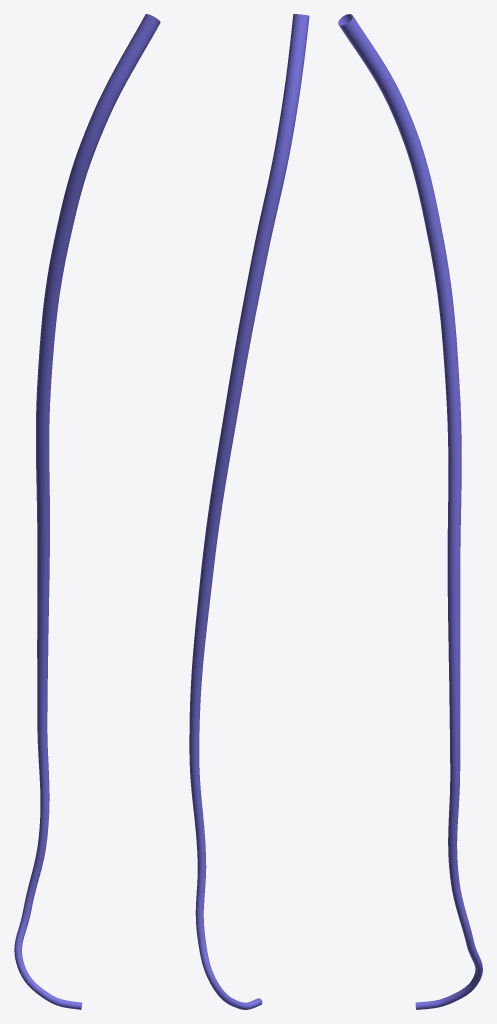
Rendered from Fibular_veins.r_BezierCurve.322.glb.
3 renders of one model, left to right at view 1: azimuth 90°, elevation 25°; view 2: azimuth 150°, elevation 25°; view 3: azimuth 270°, elevation 25°, orthographic. The views are drawn at different scales.
Parts seen in each view (by area): view 1: Fibular_veins.r_BezierCurve.322; view 2: Fibular_veins.r_BezierCurve.322; view 3: Fibular_veins.r_BezierCurve.322.
Part boxes in pixels (x1,y1,x2,y2): Fibular_veins.r_BezierCurve.322: (14,14,160,1009); Fibular_veins.r_BezierCurve.322: (189,14,309,1009); Fibular_veins.r_BezierCurve.322: (338,14,482,1009).
Size of the model in its own units: 0.0261 by 0.3211 by 0.0426.
